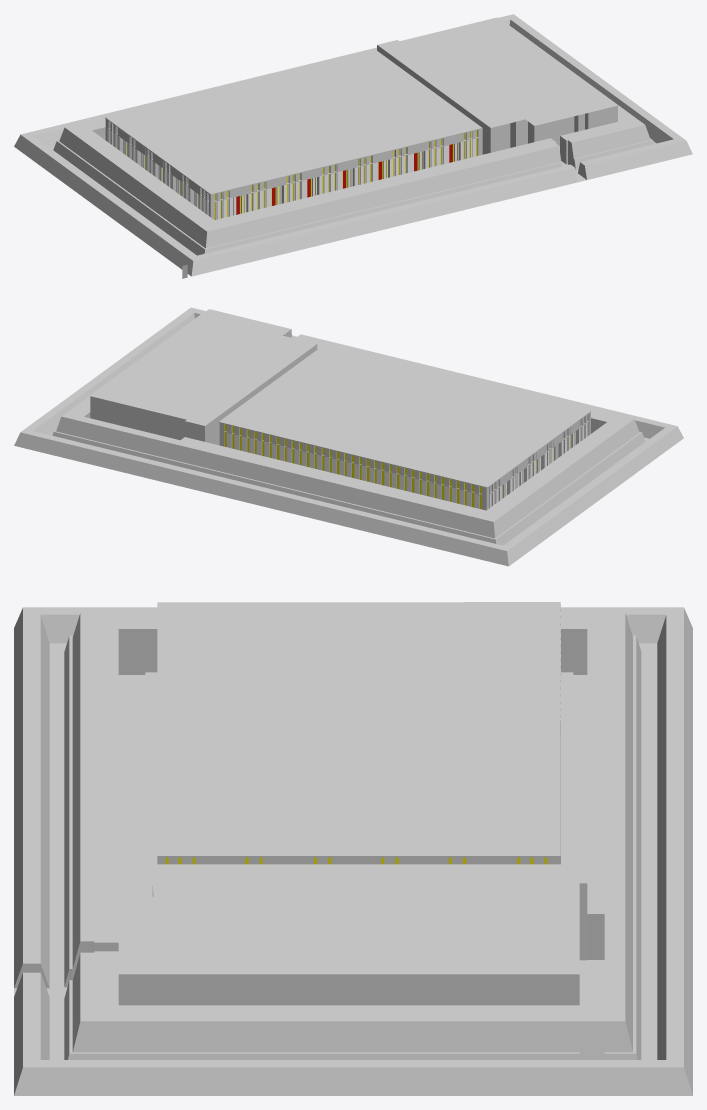
Rendered from 3505_texturesremoved.glb.
3 renders of one model, top to bottom at view 1: azimuth 30°, elevation 25°; view 2: azimuth 150°, elevation 25°; view 3: azimuth 270°, elevation 25°, orthographic. The views are drawn at different scales.
Parts seen in each view (by area): view 1: Mesh1 Model, Mesh2 Model, Mesh3 Model; view 2: Mesh1 Model, Mesh2 Model; view 3: Mesh1 Model, Mesh2 Model, Mesh3 Model.
Part boxes in pixels (x1,y1,x2,y2): Mesh1 Model: [14, 14, 692, 276]; Mesh2 Model: [53, 140, 562, 255]; Mesh3 Model: [573, 138, 654, 169]; Mesh1 Model: [14, 307, 683, 566]; Mesh2 Model: [52, 430, 645, 545]; Mesh1 Model: [14, 602, 692, 1095]; Mesh2 Model: [64, 635, 641, 1059]; Mesh3 Model: [64, 980, 579, 1059].
Size of the model in its own units: 66.38 by 5.11 by 40.
